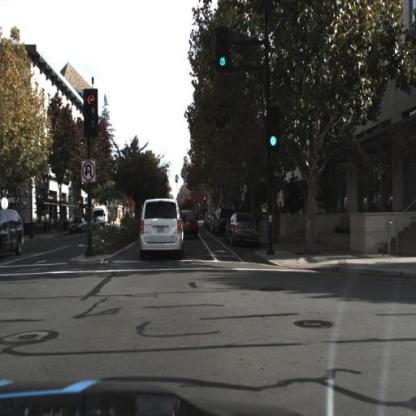car: (135, 192, 189, 265), (222, 213, 260, 250), (172, 205, 203, 249), (1, 208, 26, 259), (214, 209, 232, 237), (92, 204, 110, 231), (68, 219, 88, 237)
trafficLight: (267, 109, 281, 152)
trafficLight-Green: (216, 26, 230, 73)
trafficLight-RedLeft: (83, 88, 99, 139)
